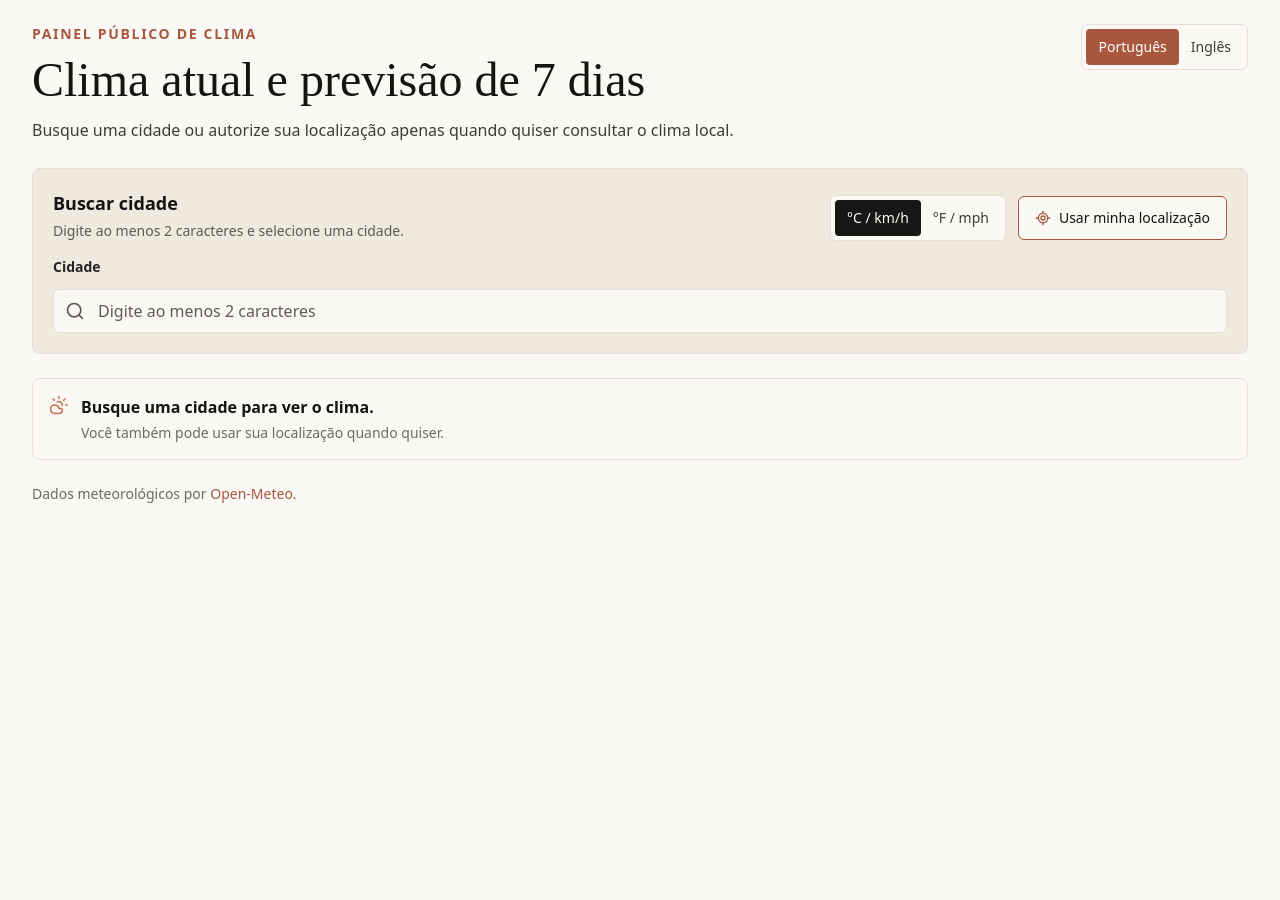
Test: WeatherPage › should convert weather values when switching to imperial units
Type "Curitiba" into the dropdown named "Buscar cidade".
click(640, 311); type("Curitiba")  # box [53, 289, 1227, 333]
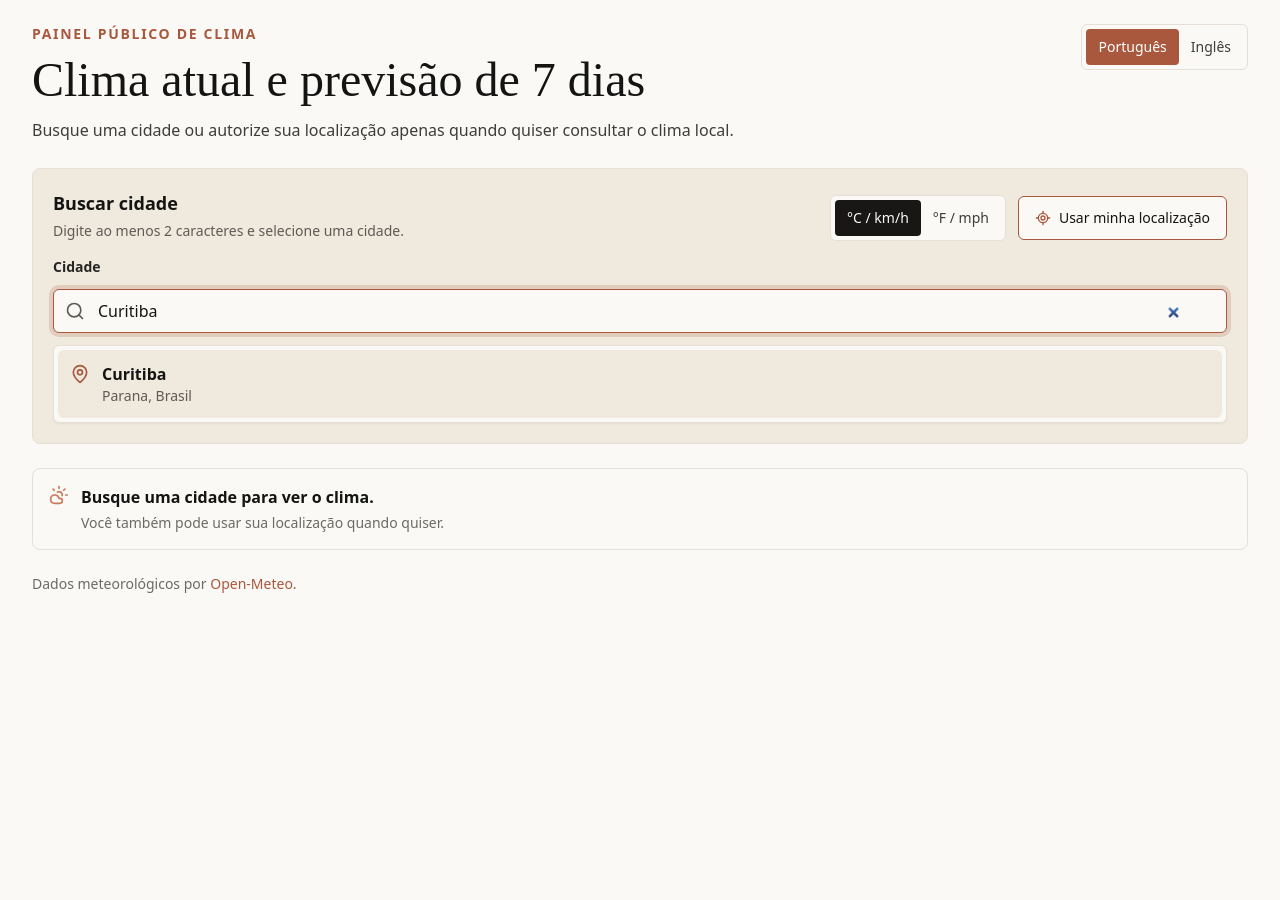
Click the option with aria-label "Selecionar Curitiba, Parana, Brasil".
click(134, 374)  # box [58, 350, 1222, 418]
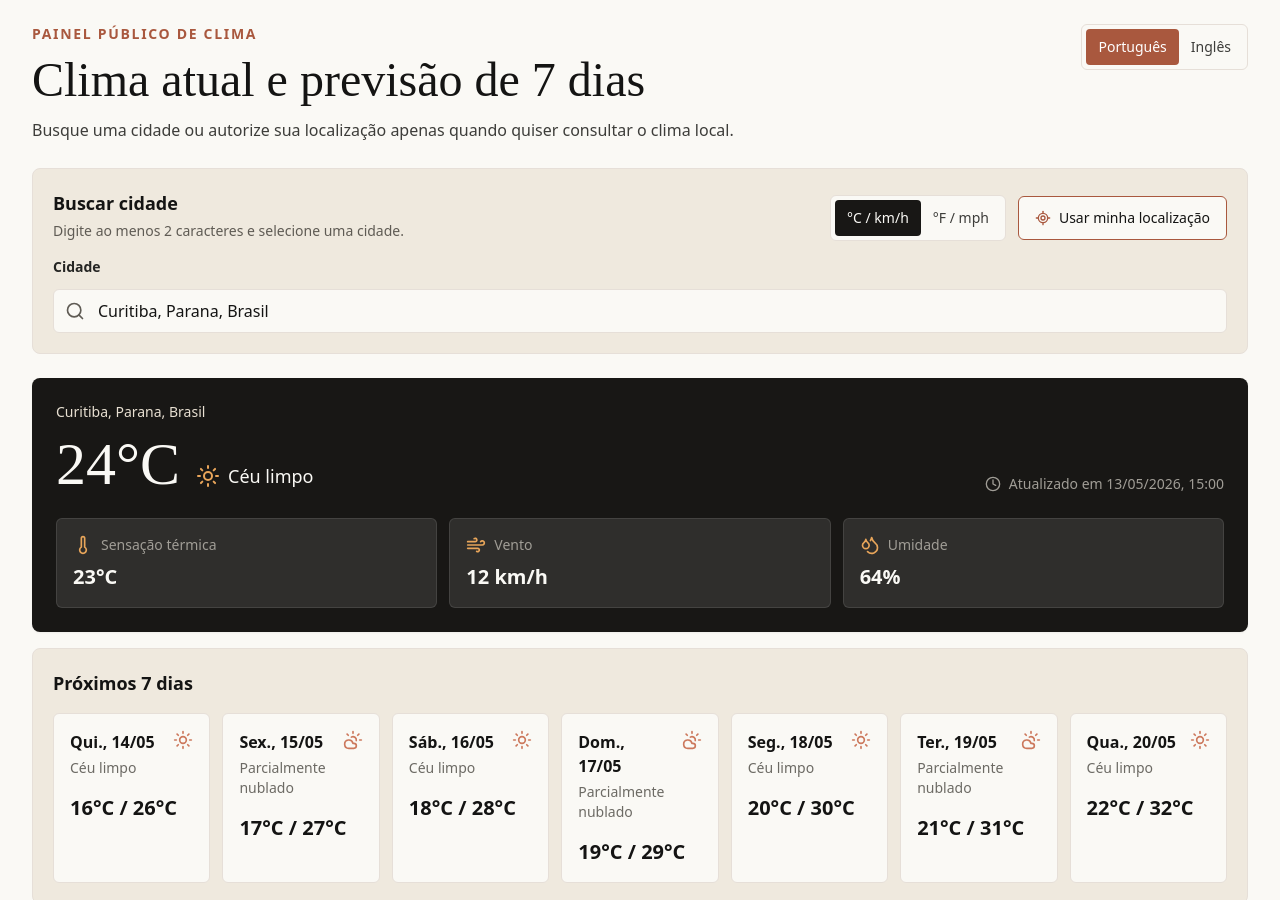
Click the radio button labelled "°F / mph".
click(961, 218)  # box [921, 200, 1001, 236]
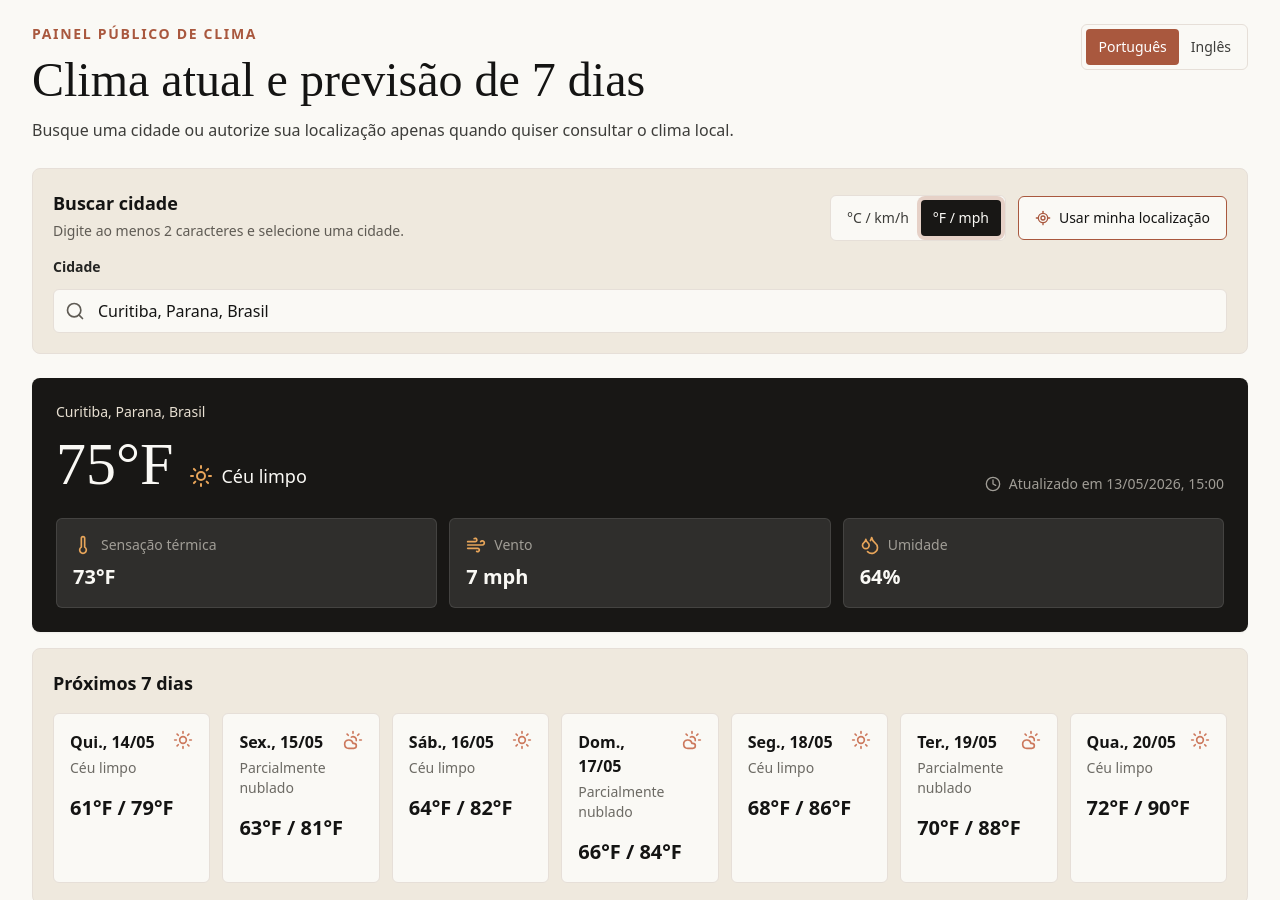
Expected: the heading "75°F" is shown, [56, 434, 173, 494]
Expected: the text "7 mph" is shown, [466, 563, 528, 590]
